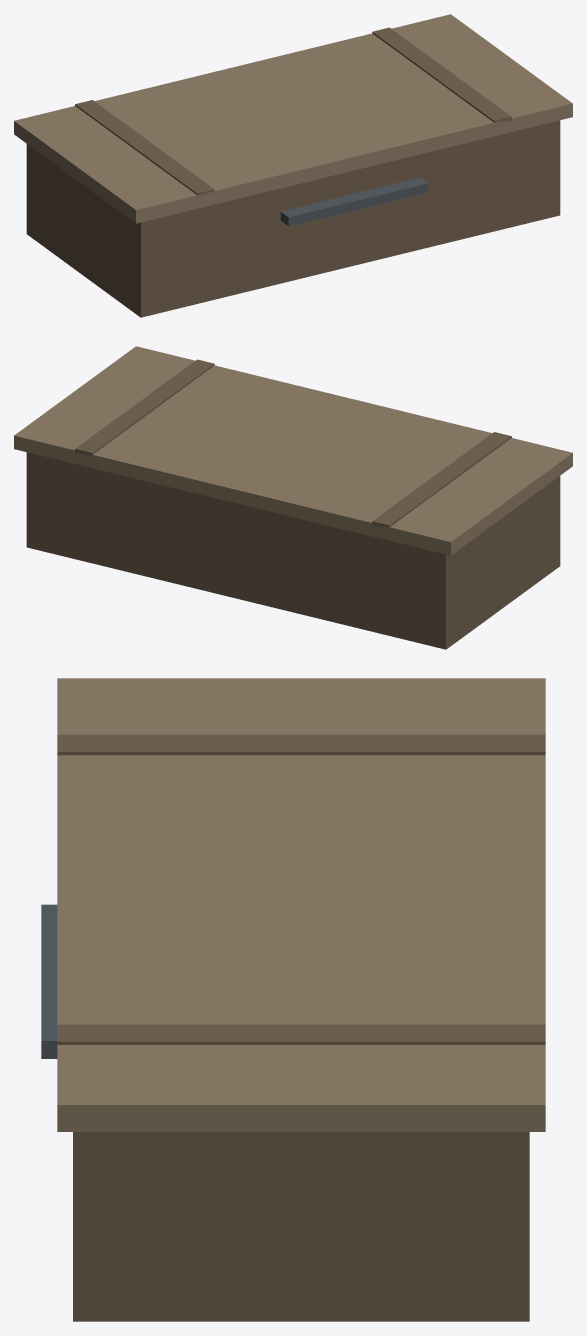
Rendered from conductor_log_chest.glb.
The picture shows the model from 3 angles, top to bottom: view 1: azimuth 30°, elevation 25°; view 2: azimuth 150°, elevation 25°; view 3: azimuth 270°, elevation 25°; orthographic projection. The views are drawn at different scales.
Visible parts, largest first — view 1: conductor_log_chest; view 2: conductor_log_chest; view 3: conductor_log_chest.
Part boxes in pixels (<box>): conductor_log_chest: <box>14,14,572,317</box>; conductor_log_chest: <box>14,346,572,649</box>; conductor_log_chest: <box>41,678,545,1321</box>.
Size of the model in its own units: 1.92 by 0.48 by 0.96.
